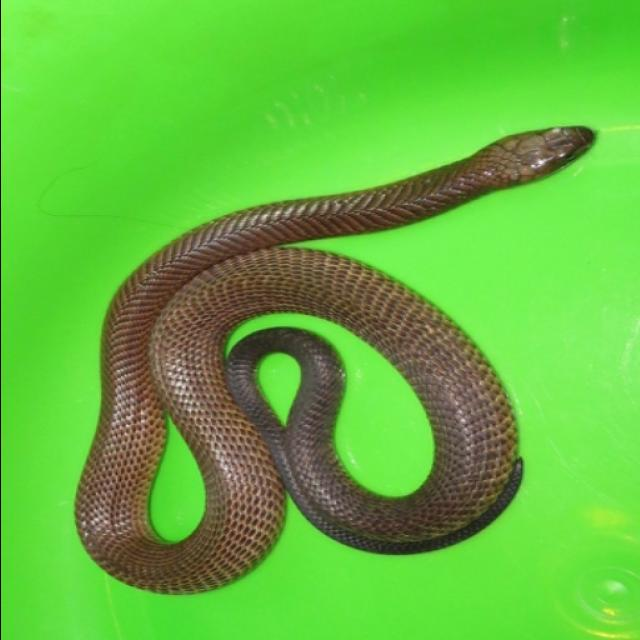snake: (50, 109, 622, 611)
